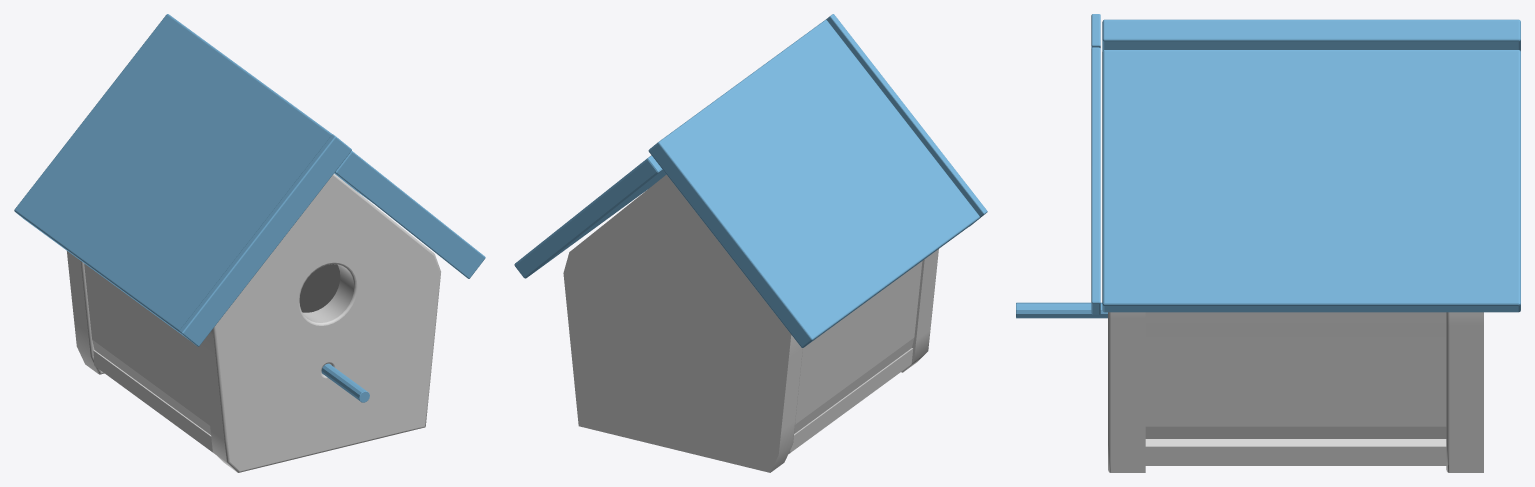
File: asIp36y3k0t.glb
The picture shows the model from 3 angles, left to right: view 1: azimuth 30°, elevation 25°; view 2: azimuth 150°, elevation 25°; view 3: azimuth 270°, elevation 25°; orthographic projection. The views are drawn at different scales.
Parts seen in each view (by area): view 1: roof_left.1, Cap_1, Path_1; view 2: roof_left.1, Cap_1, Path_1; view 3: roof_left.1, Path_1, Cap_1.
Boxes of the visible parts, x1,y1,x2,y2 form: roof_left.1: (14, 14, 485, 402); Cap_1: (67, 173, 440, 472); Path_1: (84, 263, 340, 452); roof_left.1: (514, 14, 987, 347); Cap_1: (563, 175, 938, 472); Path_1: (790, 261, 922, 452); roof_left.1: (1016, 14, 1520, 318); Path_1: (1145, 312, 1446, 465); Cap_1: (1108, 312, 1483, 472).
Size of the model in its own units: 0.9942 by 1 by 1.15.
